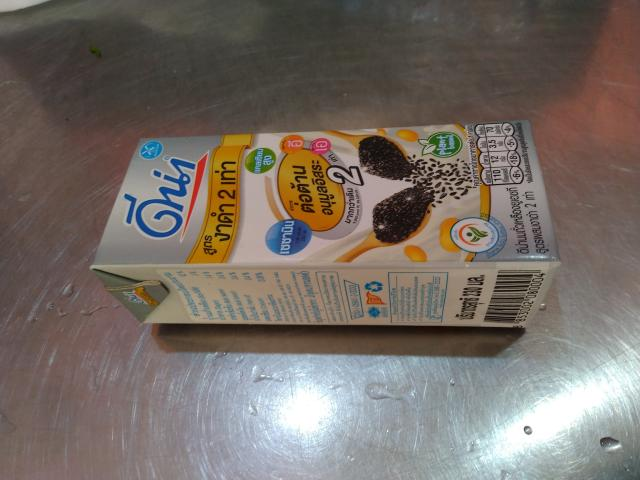drink_box: (75, 103, 596, 374)
